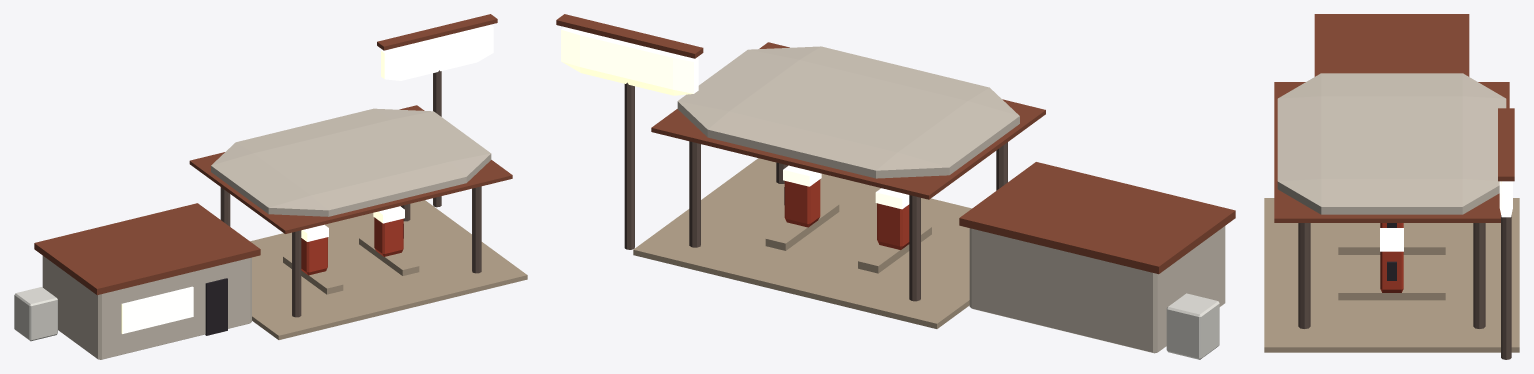
The model's file is gas_station.glb.
3 renders of one model, left to right at view 1: azimuth 30°, elevation 25°; view 2: azimuth 150°, elevation 25°; view 3: azimuth 270°, elevation 25°, orthographic. The views are drawn at different scales.
Visible parts, largest first — view 1: gas_station; view 2: gas_station; view 3: gas_station.
Boxes of the visible parts, x1,y1,x2,y2 form: gas_station: [14, 14, 527, 359]; gas_station: [556, 14, 1235, 359]; gas_station: [1264, 14, 1519, 359].
Bounding box in the file's own units: 21.2 × 7.06 × 7.6.
